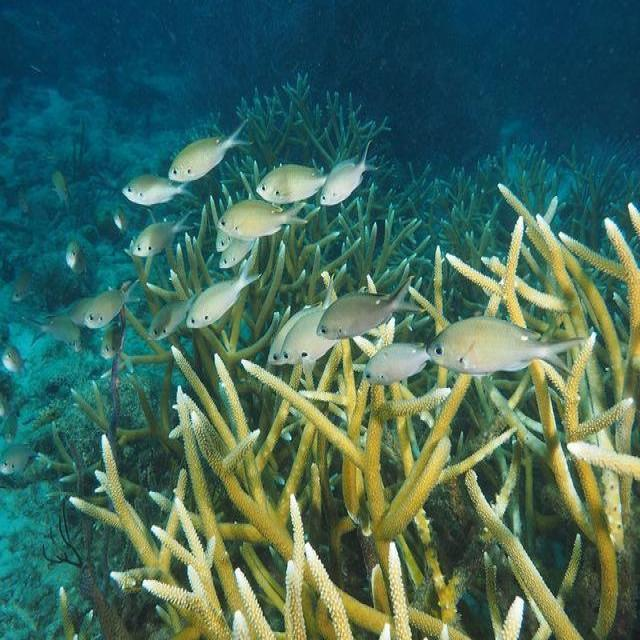fish: (427, 317, 582, 378), (316, 276, 428, 339), (268, 274, 336, 365), (169, 118, 255, 184), (186, 256, 262, 330), (321, 140, 380, 206), (282, 307, 337, 376), (217, 200, 309, 240), (364, 340, 431, 384), (131, 211, 195, 257), (84, 279, 141, 329), (255, 165, 329, 203), (147, 290, 199, 342), (120, 175, 200, 208), (21, 318, 82, 352), (218, 236, 254, 269), (11, 268, 35, 304), (48, 168, 71, 204), (100, 324, 125, 357), (1, 344, 26, 375), (64, 240, 86, 275), (113, 204, 130, 234), (215, 227, 233, 251)
